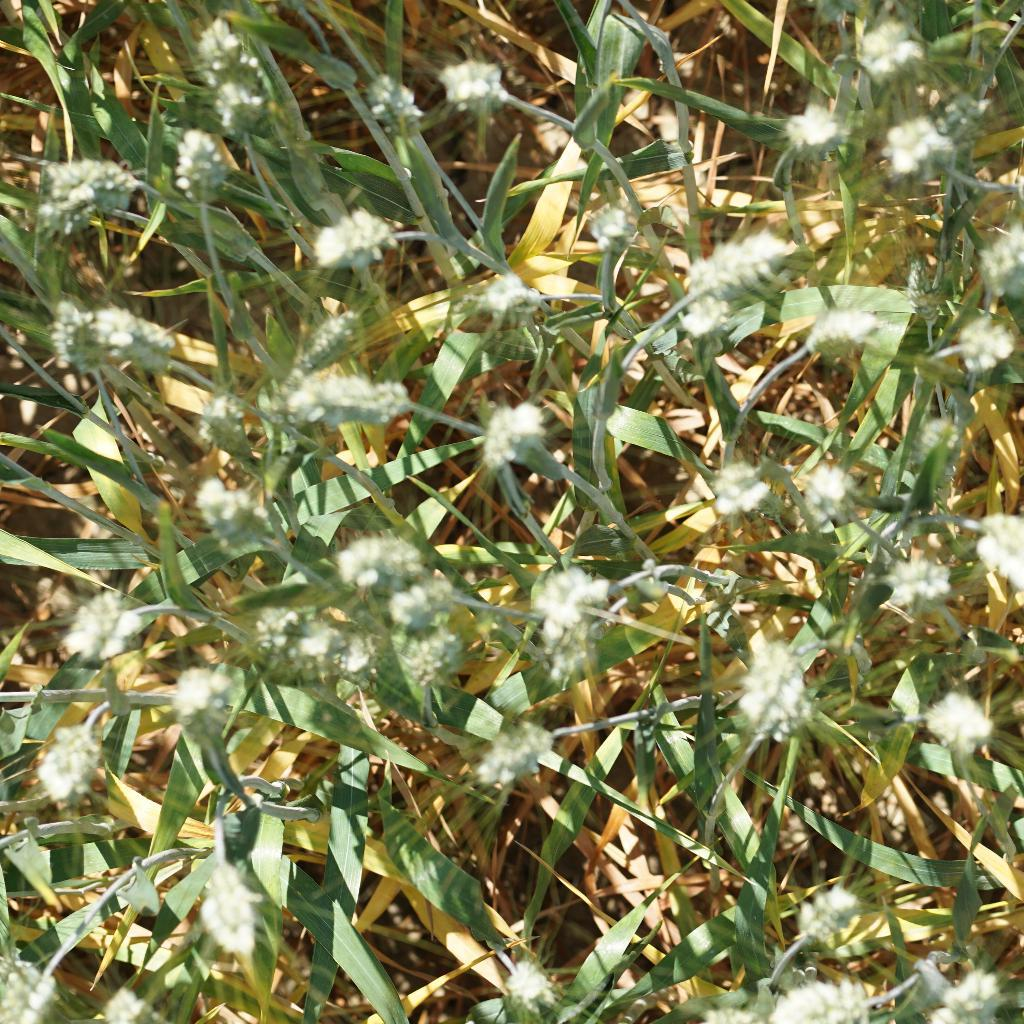0-0: (182, 851, 275, 970), (45, 292, 183, 372), (722, 639, 822, 744), (174, 475, 281, 572), (272, 363, 410, 426), (673, 234, 813, 295), (462, 697, 556, 787), (761, 959, 885, 1024), (26, 714, 112, 807), (30, 299, 116, 391), (500, 556, 602, 632), (281, 305, 381, 380), (862, 109, 964, 182), (58, 587, 154, 661), (955, 497, 1024, 593), (937, 311, 1024, 385), (6, 931, 83, 1013), (168, 116, 232, 213), (326, 527, 425, 589), (855, 15, 937, 89), (894, 407, 974, 482), (182, 397, 266, 466), (791, 298, 875, 367), (470, 395, 553, 463), (44, 149, 150, 202), (154, 665, 247, 724), (206, 71, 279, 146), (914, 681, 991, 751), (305, 612, 380, 681), (302, 205, 388, 265), (433, 53, 514, 116), (494, 957, 570, 1024), (792, 888, 869, 953), (362, 60, 428, 134), (384, 568, 468, 626), (245, 591, 301, 677), (879, 548, 948, 617), (923, 967, 1001, 1024), (388, 626, 459, 688), (780, 107, 854, 165), (580, 189, 642, 257), (709, 458, 778, 519), (980, 210, 1024, 301), (187, 17, 257, 73), (32, 189, 112, 238), (795, 458, 856, 522), (473, 273, 545, 326), (903, 247, 946, 330), (672, 292, 732, 344)
